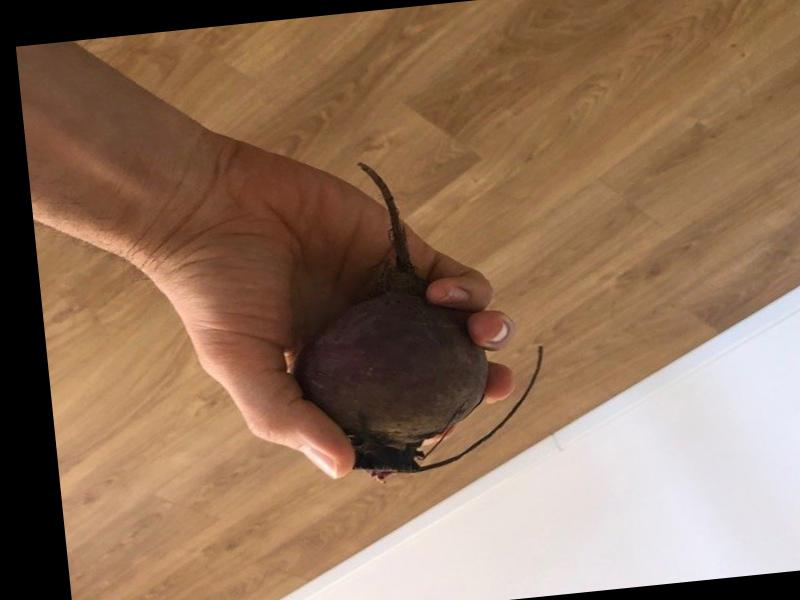Beet: (275, 148, 557, 489)
